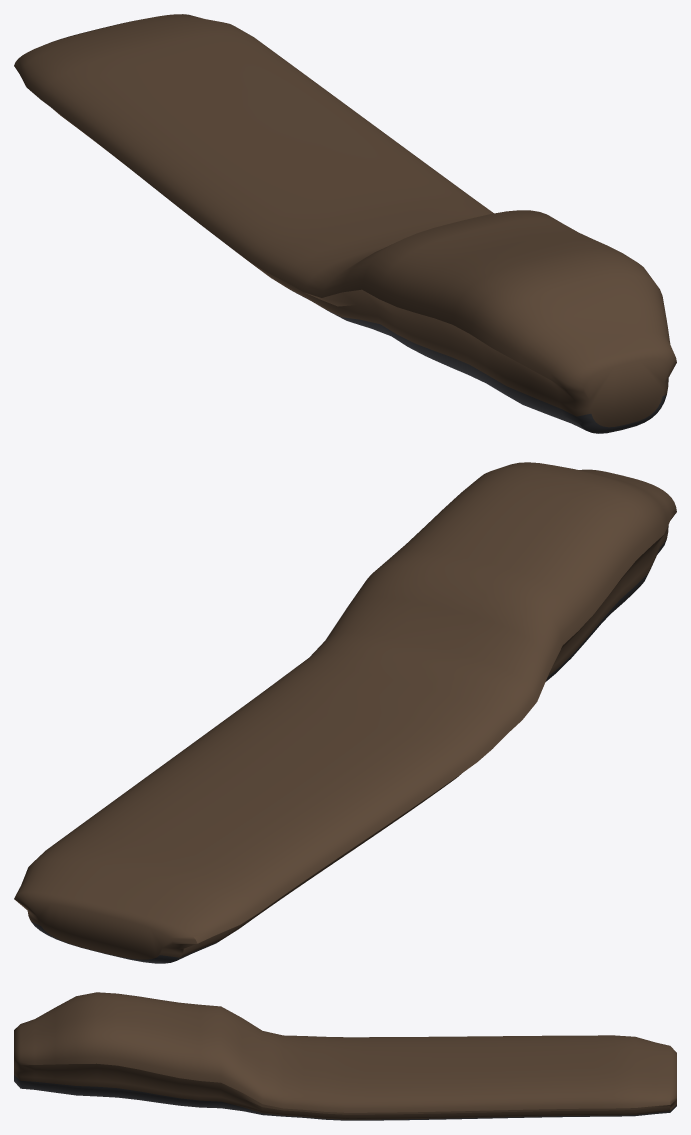
Rendered from cafe.glb.
3 views of the same model, one above another, from view 1: azimuth 30°, elevation 25°; view 2: azimuth 150°, elevation 25°; view 3: azimuth 270°, elevation 25° (orthographic). The views are drawn at different scales.
Parts seen in each view (by area): view 1: lod0; view 2: lod0; view 3: lod0.
Boxes of the visible parts, x1=… form: lod0: x1=14, y1=14, x2=676, y2=433; lod0: x1=14, y1=462, x2=676, y2=963; lod0: x1=14, y1=992, x2=676, y2=1120.
Size of what is drawn, in the model's own units: 0.2493 by 0.1549 by 1.
